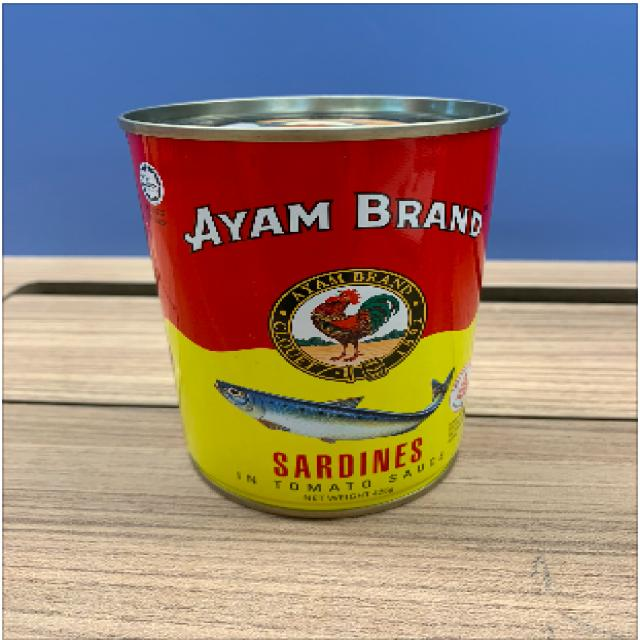object_name: (129, 96, 499, 513)
